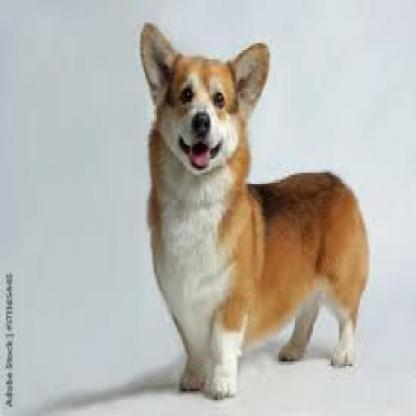dog: (138, 21, 370, 400)
